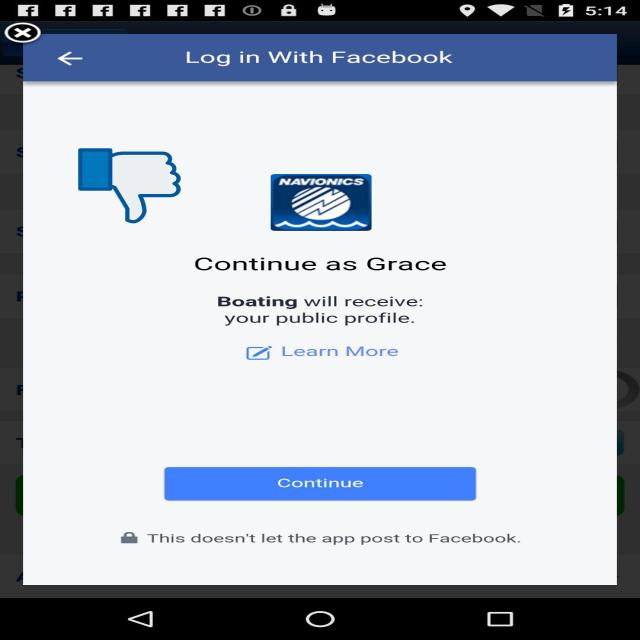obstruction: (78, 147, 181, 225)
